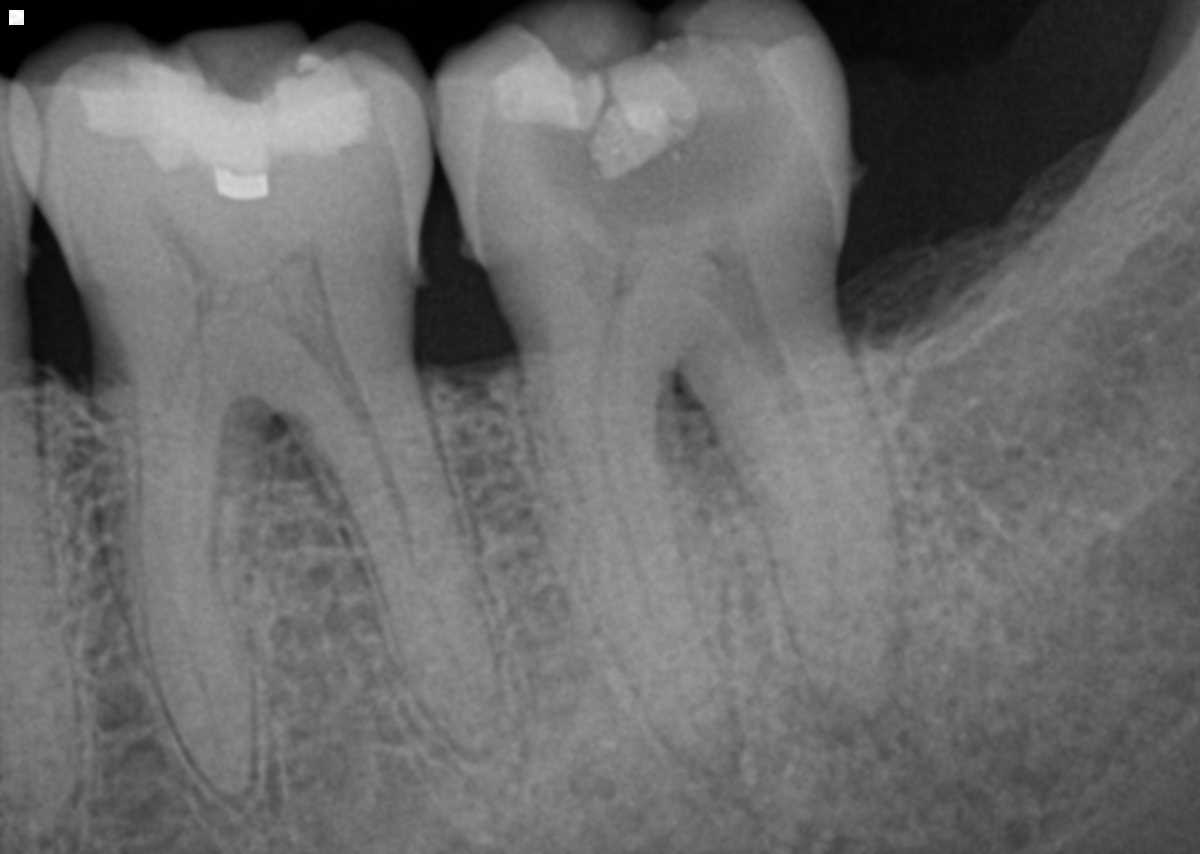Apical Lesion: (793, 631, 955, 768)
Distal Canal: (334, 380, 483, 706), (745, 324, 845, 701)
Distal Root: (678, 315, 905, 736), (268, 368, 503, 756)
Main Root: (0, 367, 81, 835)
Mesial Canal: (591, 376, 681, 697)
Mesial Root: (516, 360, 737, 773), (112, 383, 272, 803)
decay: (522, 71, 795, 237)
